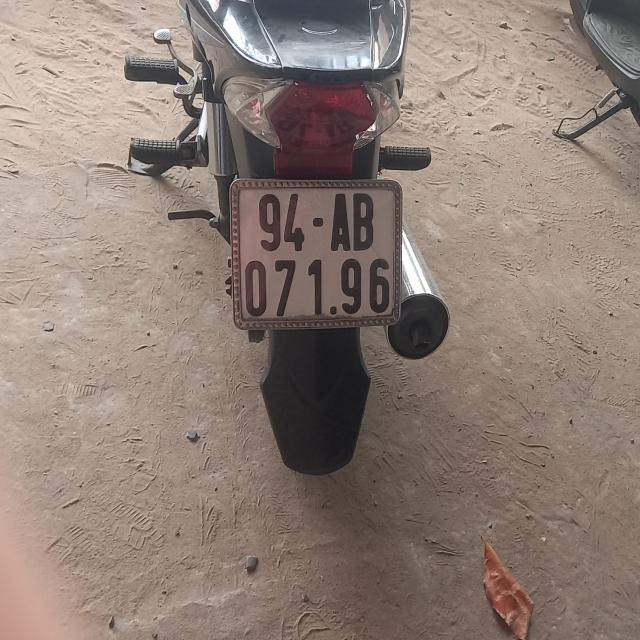0: (244, 260, 268, 316)
1: (307, 258, 322, 316)
4: (284, 192, 306, 252)
6: (369, 258, 390, 312)
7: (274, 259, 296, 317)
9: (257, 192, 282, 253), (340, 259, 362, 316)
A: (330, 193, 350, 252)
B: (352, 192, 375, 254)
